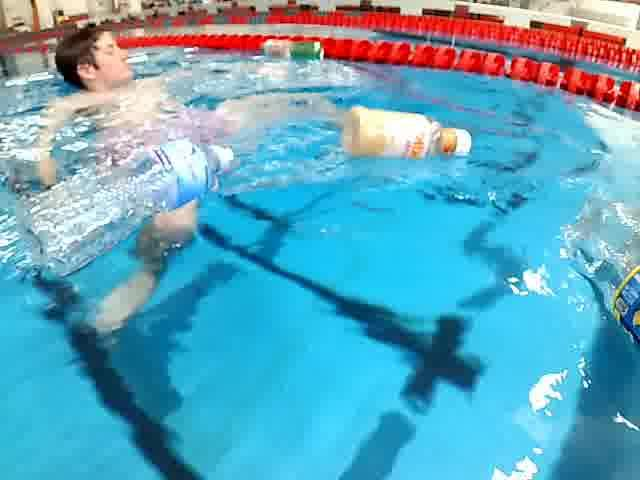Bottle: (5, 136, 243, 283), (552, 187, 640, 349), (328, 100, 478, 178), (254, 33, 304, 65)
Can: (292, 38, 331, 67)
